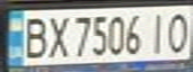0: (106, 11, 127, 56)
5: (90, 11, 109, 57)
6: (124, 11, 148, 55)
7: (69, 12, 93, 57)
B: (18, 13, 51, 60)
I: (145, 9, 169, 55)
O: (163, 9, 193, 54)
X: (42, 12, 72, 59)
